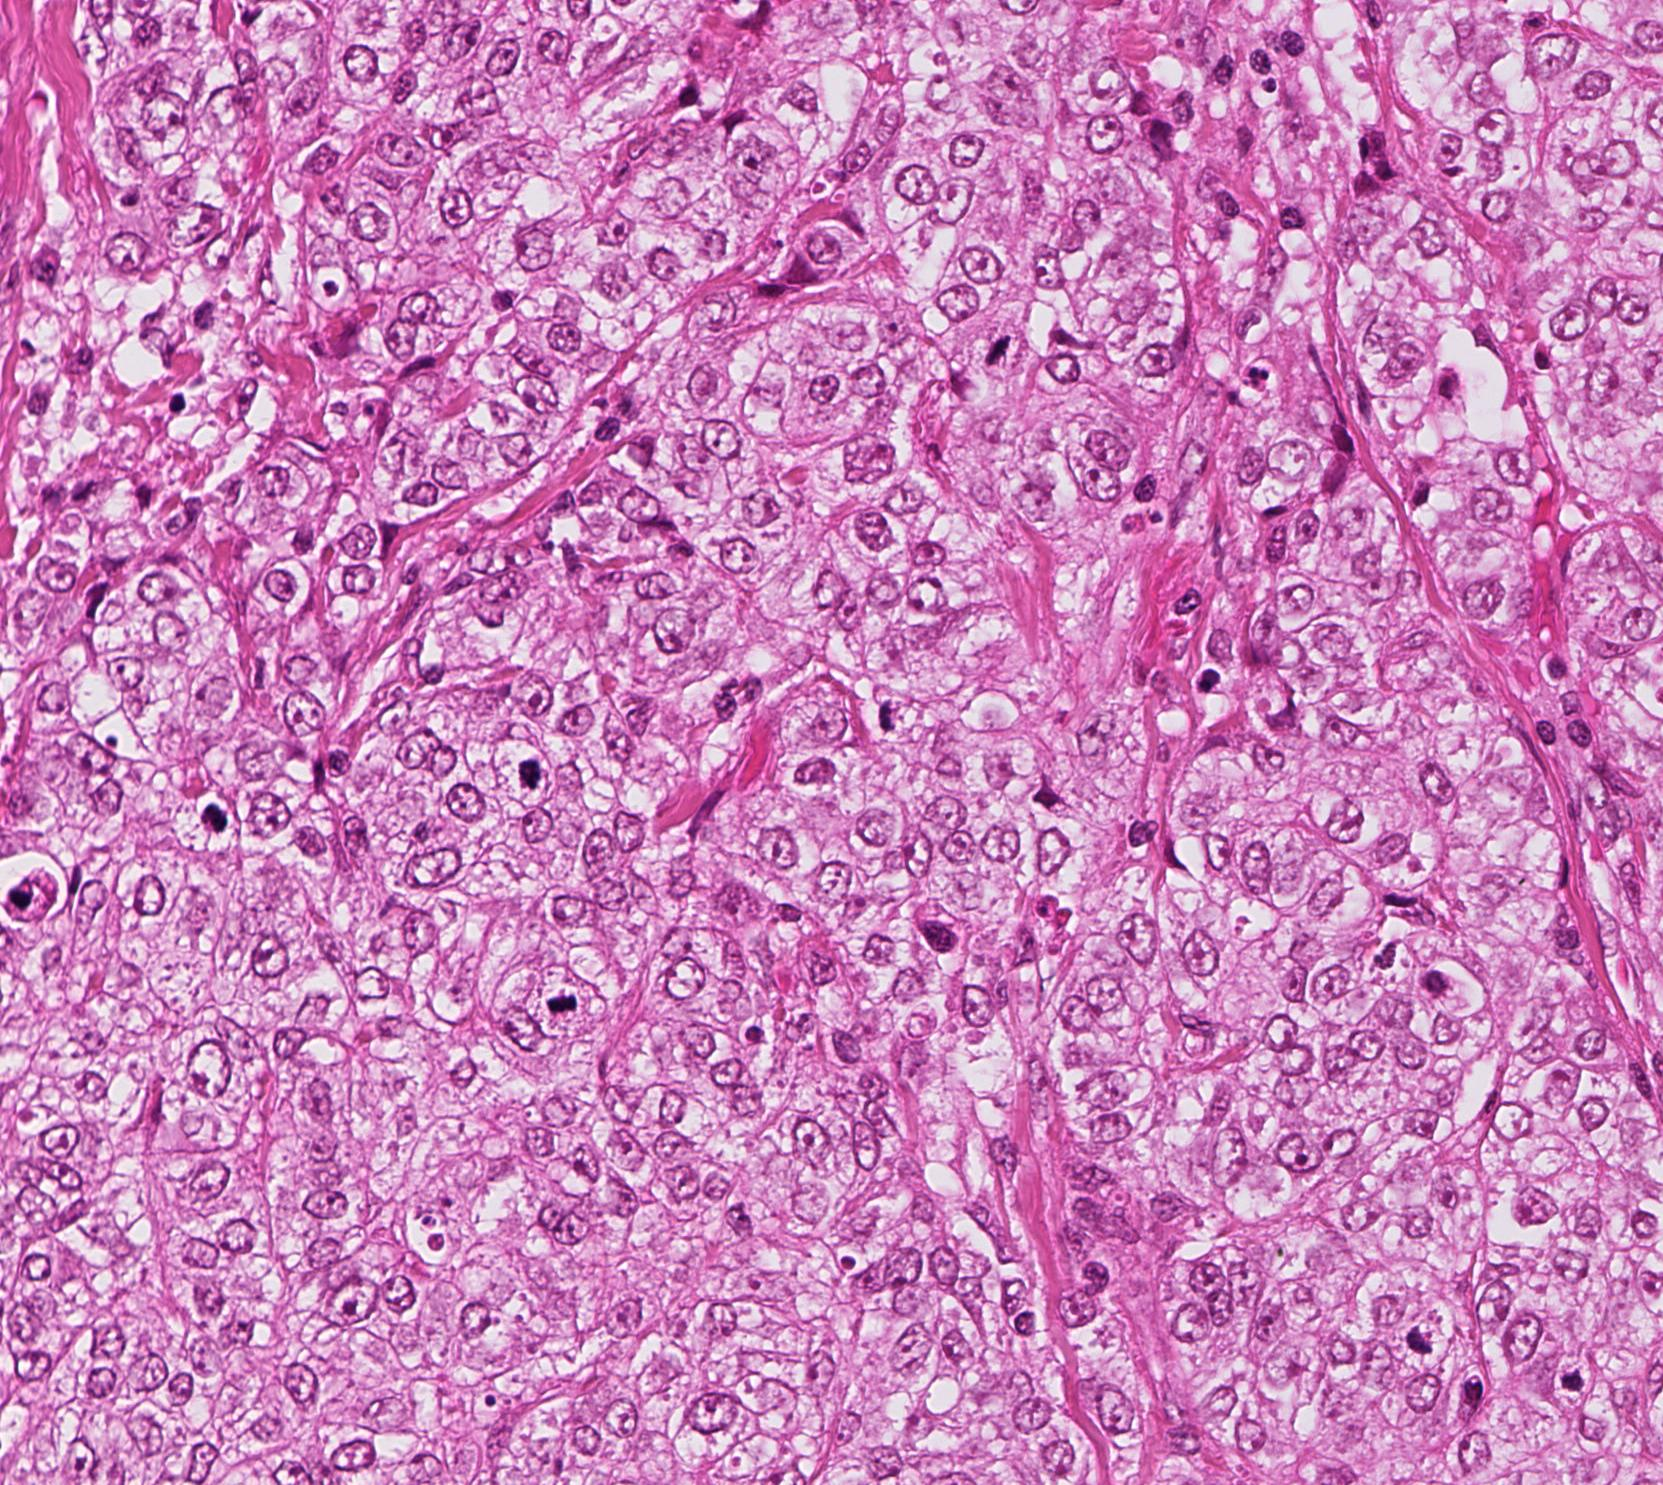mitosis: (497, 735, 558, 796), (854, 689, 915, 750), (532, 975, 592, 1033), (968, 310, 1028, 368)
